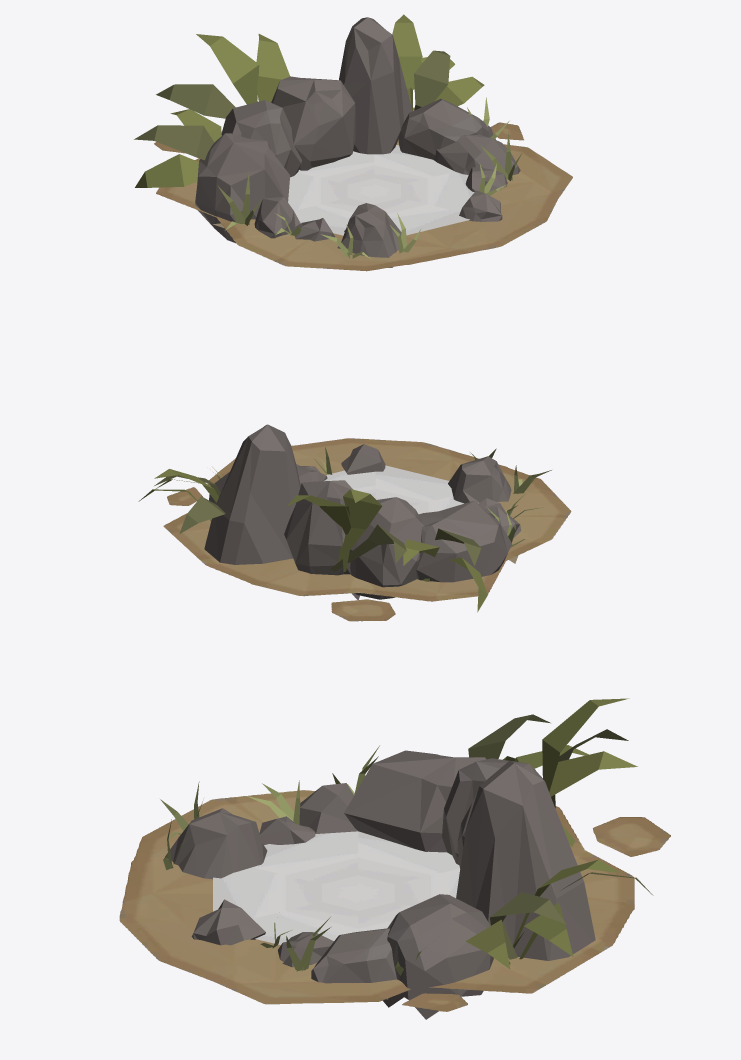
Rendered from deepPool.fbx.
The picture shows the model from 3 angles, top to bottom: view 1: azimuth 30°, elevation 25°; view 2: azimuth 150°, elevation 25°; view 3: azimuth 270°, elevation 25°; orthographic projection. The views are drawn at different scales.
Visible parts, largest first — view 1: deepPool, groundDecal, deepPoolWater; view 2: deepPool, groundDecal, deepPoolWater; view 3: deepPool, groundDecal, deepPoolWater.
Boxes of the visible parts, x1,y1,x2,y2 form: deepPool: (134,14,521,267); groundDecal: (154,107,572,271); deepPoolWater: (288,145,474,235); deepPool: (138,424,551,612); groundDecal: (163,438,571,621); deepPoolWater: (324,465,478,514); deepPool: (160,698,653,1019); groundDecal: (119,790,670,1011); deepPoolWater: (213,831,460,944).
Bounding box in the file's own units: 4 × 1.35 × 4.
